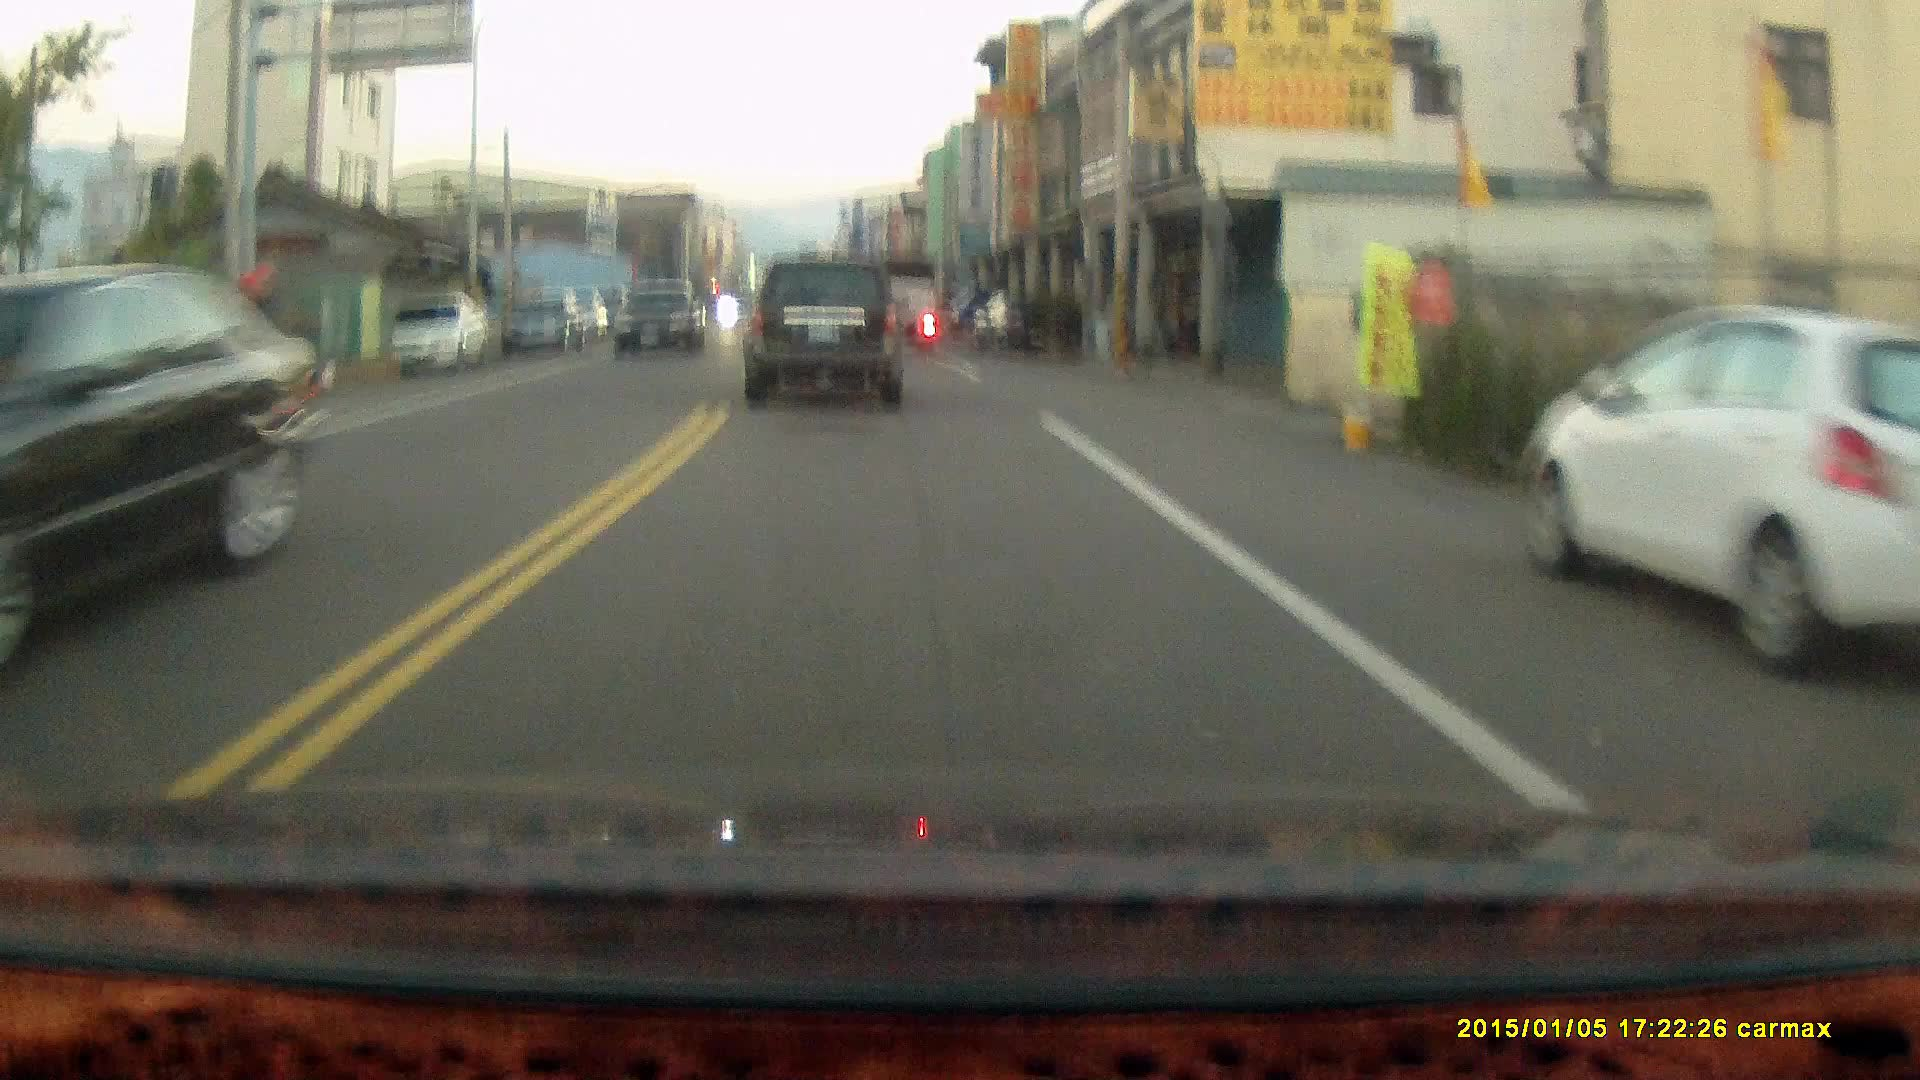vehicle: (1518, 305, 1920, 688), (1, 269, 328, 676), (745, 258, 910, 415), (861, 253, 943, 352), (385, 295, 491, 369), (617, 290, 709, 356), (500, 290, 587, 356)
